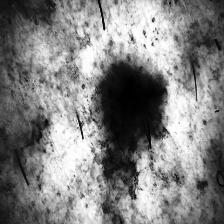Benign Marking or Mole: (99, 66, 172, 134)
